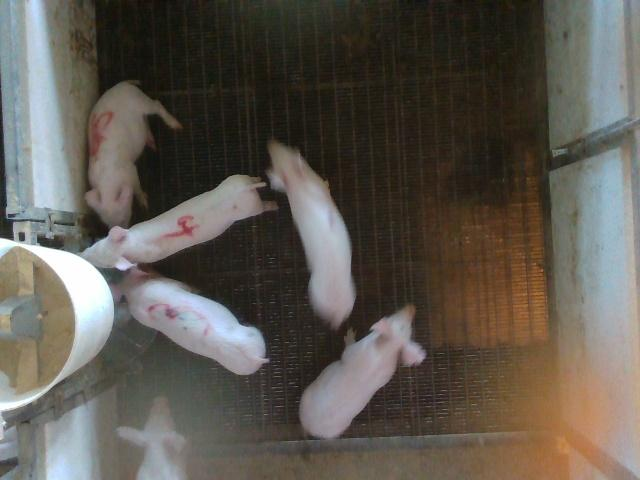pig-2: (266, 140, 355, 329)
pig-3: (110, 268, 268, 374)
pig-4: (81, 175, 275, 269)
pig-5: (85, 81, 181, 227)
